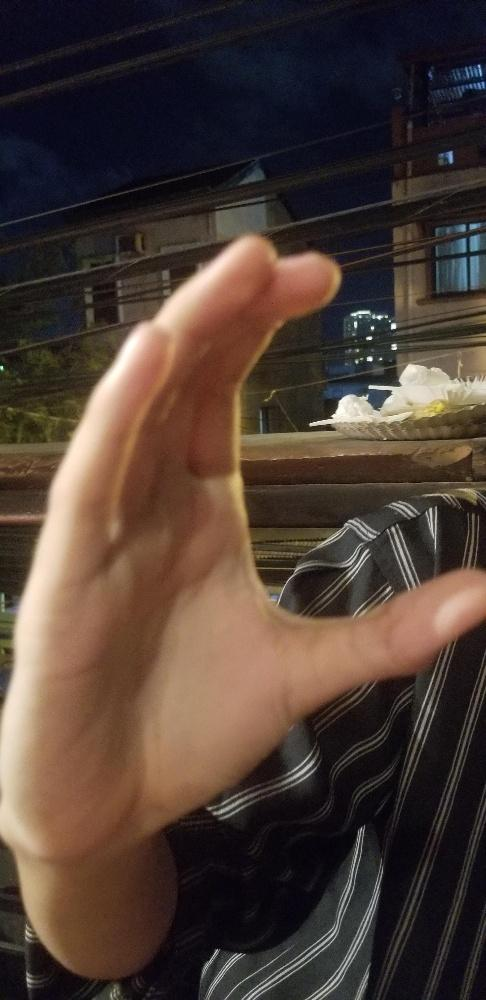c: (0, 230, 485, 858)
